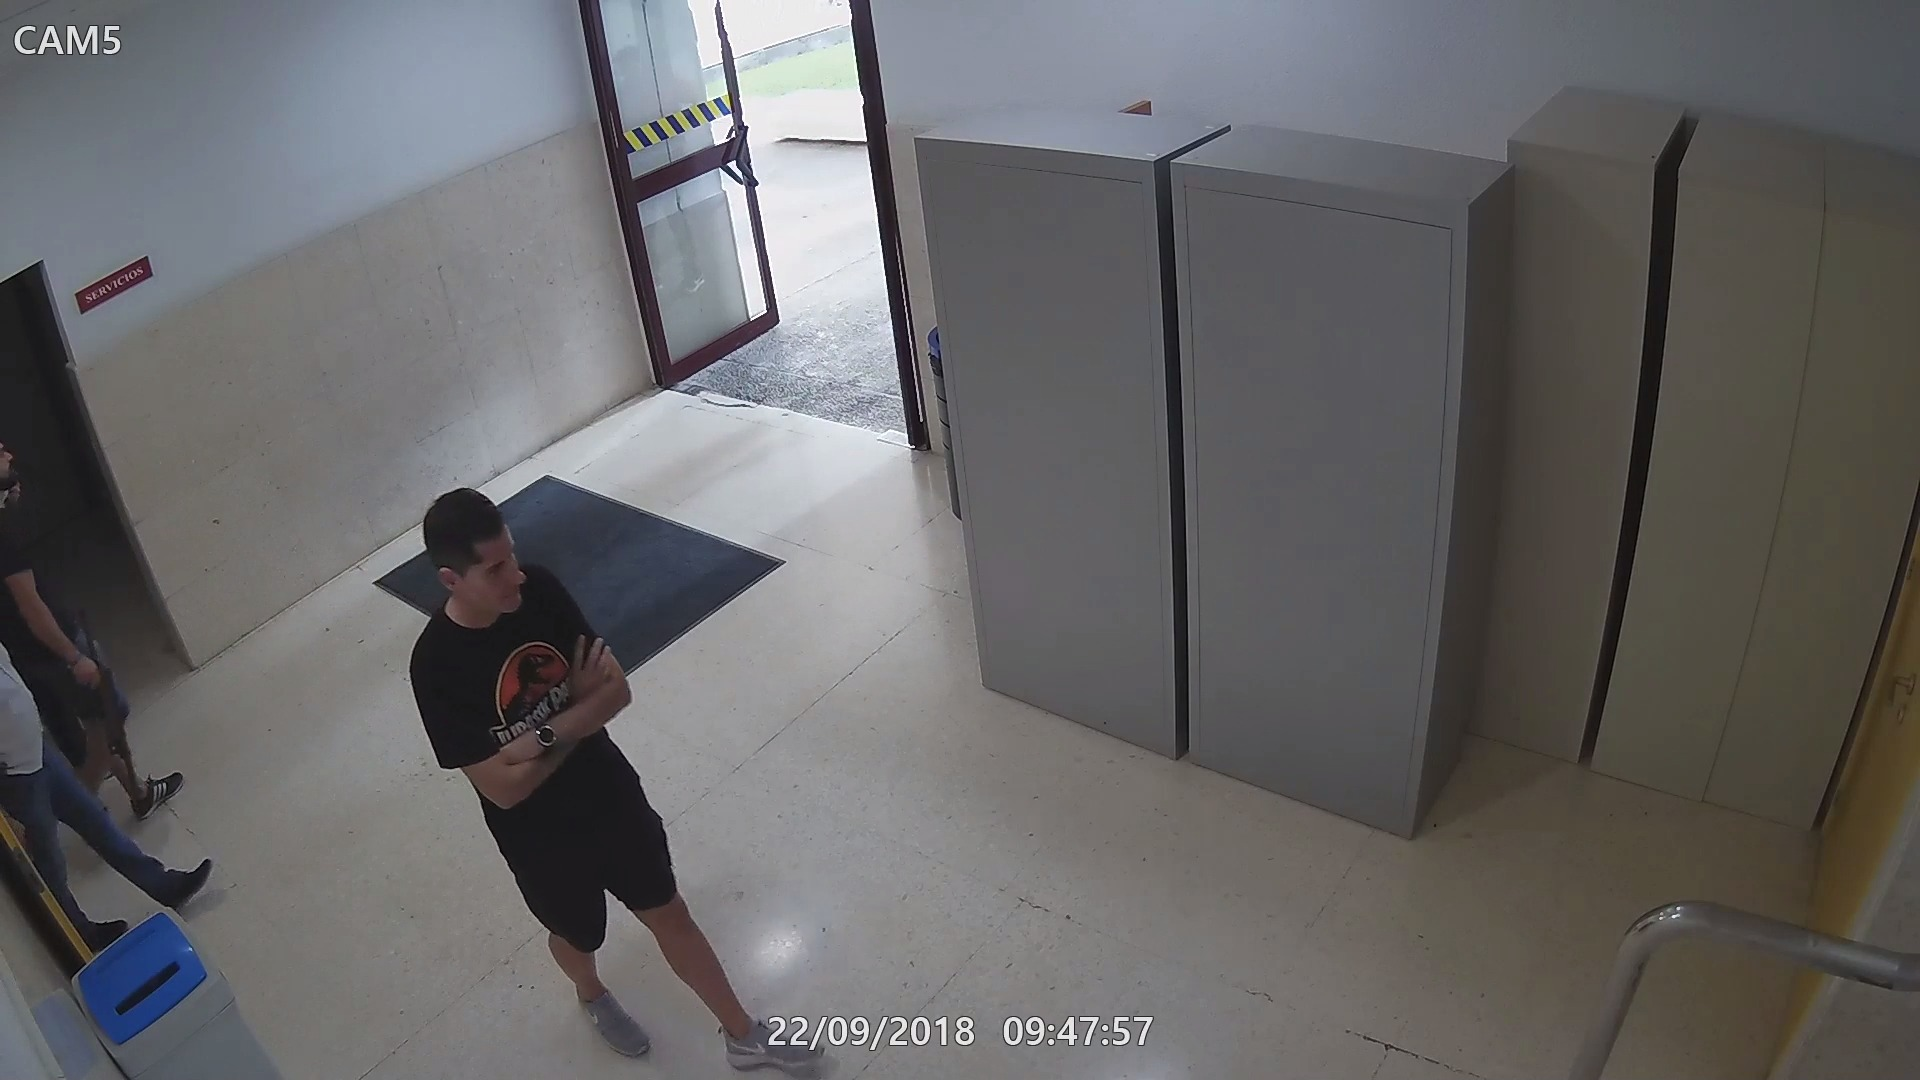Short_rifle: (66, 641, 146, 820)
